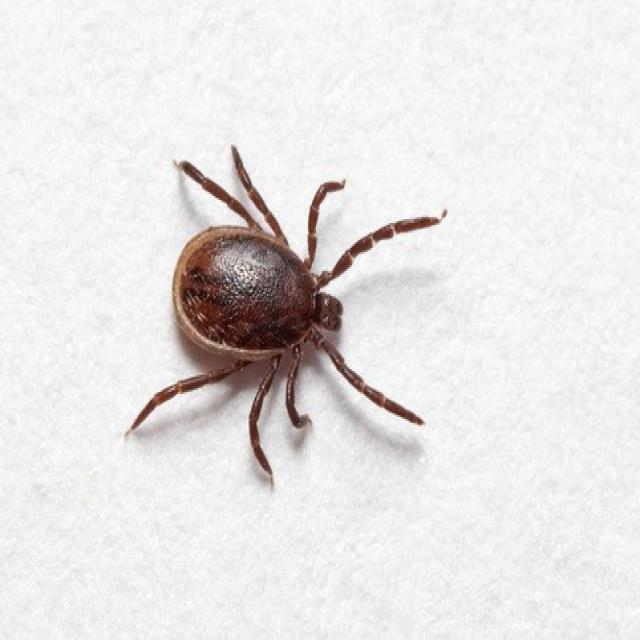Ixodes Ricinus-M: (125, 148, 446, 488)
